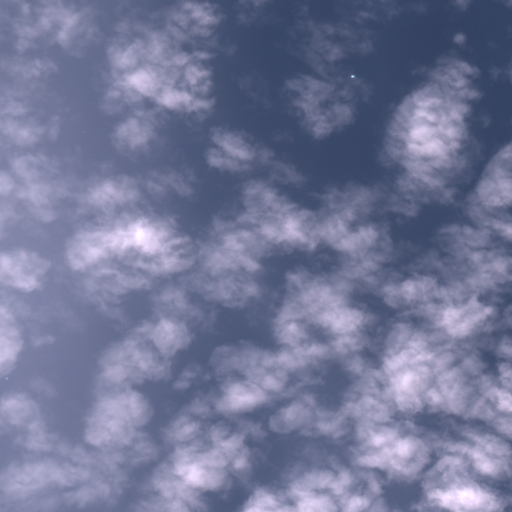Iceberg: (351, 75, 354, 77)
